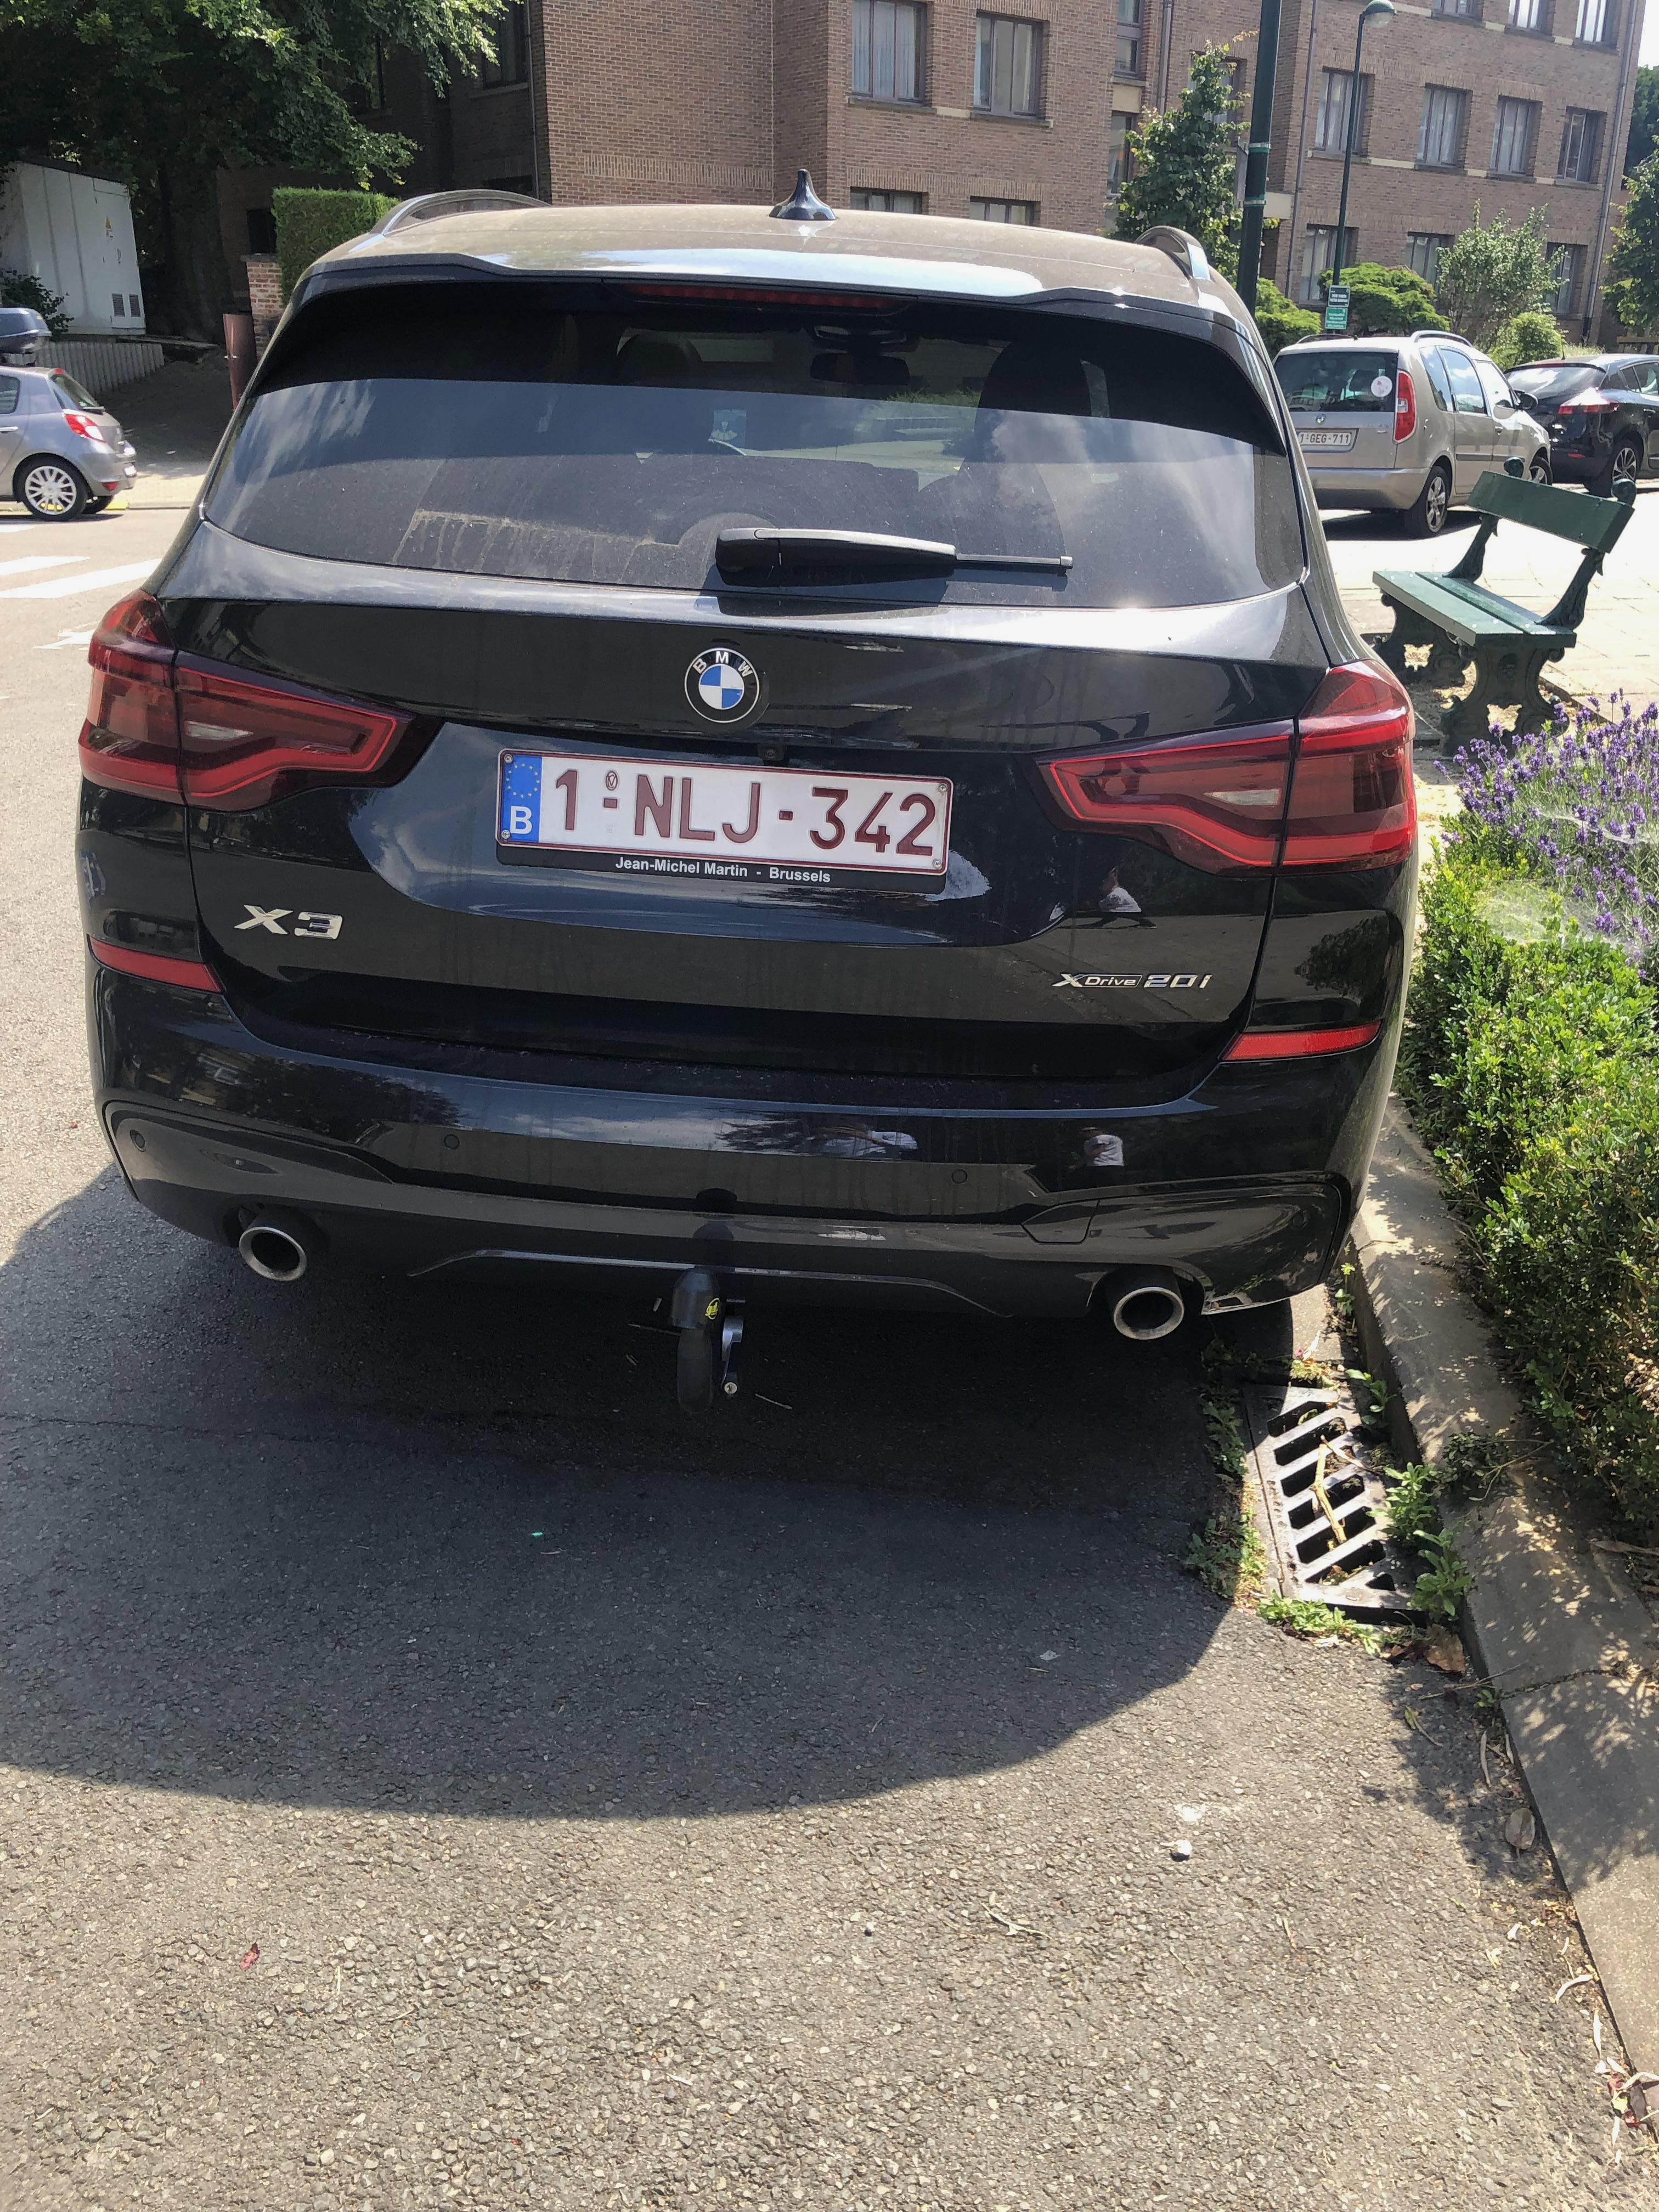plate: (467, 723, 981, 874)
